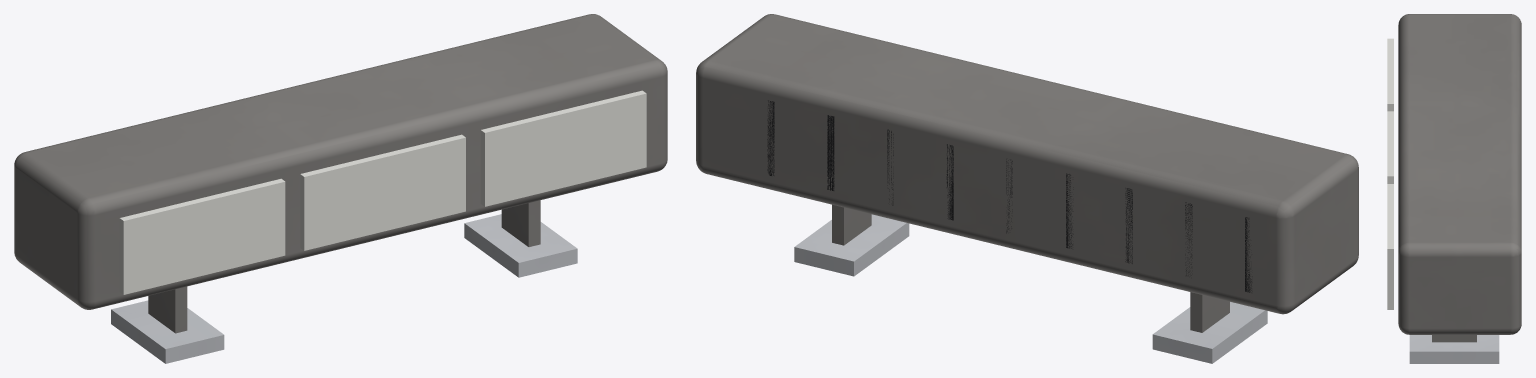
Rendered from rover35_light_bar_xs.glb.
3 renders of one model, left to right at view 1: azimuth 30°, elevation 25°; view 2: azimuth 150°, elevation 25°; view 3: azimuth 270°, elevation 25°, orthographic. The views are drawn at different scales.
Visible parts, largest first — view 1: housing, lamps, feet, brackets; view 2: housing, feet, heat_fins, brackets; view 3: housing, feet, lamps, brackets.
Part boxes in pixels (x1=…): housing: x1=14, y1=14, x2=667, y2=309; lamps: x1=119, y1=90, x2=646, y2=294; feet: x1=111, y1=214, x2=577, y2=363; brackets: x1=148, y1=200, x2=540, y2=333; housing: x1=696, y1=14, x2=1358, y2=314; feet: x1=794, y1=214, x2=1267, y2=363; heat_fins: x1=767, y1=100, x2=1252, y2=292; brackets: x1=832, y1=204, x2=1229, y2=332; housing: x1=1398, y1=14, x2=1521, y2=334; feet: x1=1409, y1=335, x2=1499, y2=363; lamps: x1=1387, y1=38, x2=1393, y2=309; brackets: x1=1432, y1=335, x2=1476, y2=342.
Size of the model in its own units: 0.5 by 0.15 by 0.12.
Materials: 4 (2 with a texture image).
